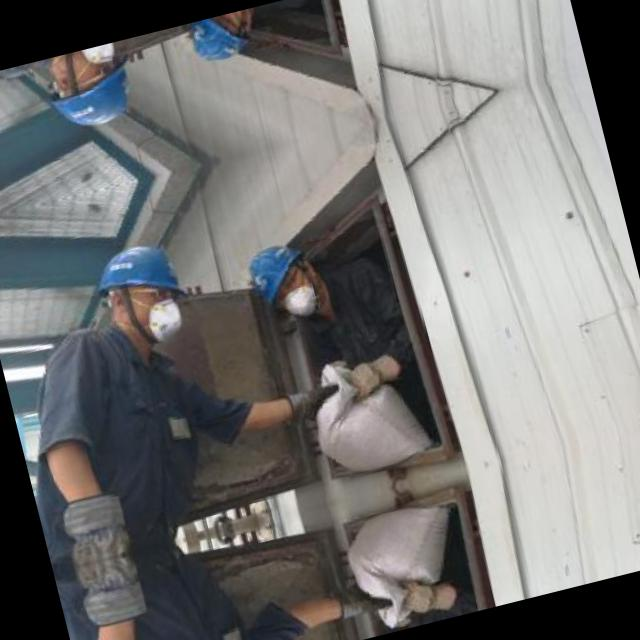helmet: (77, 224, 199, 354), (30, 38, 148, 146), (240, 224, 334, 354), (185, 7, 266, 78)
